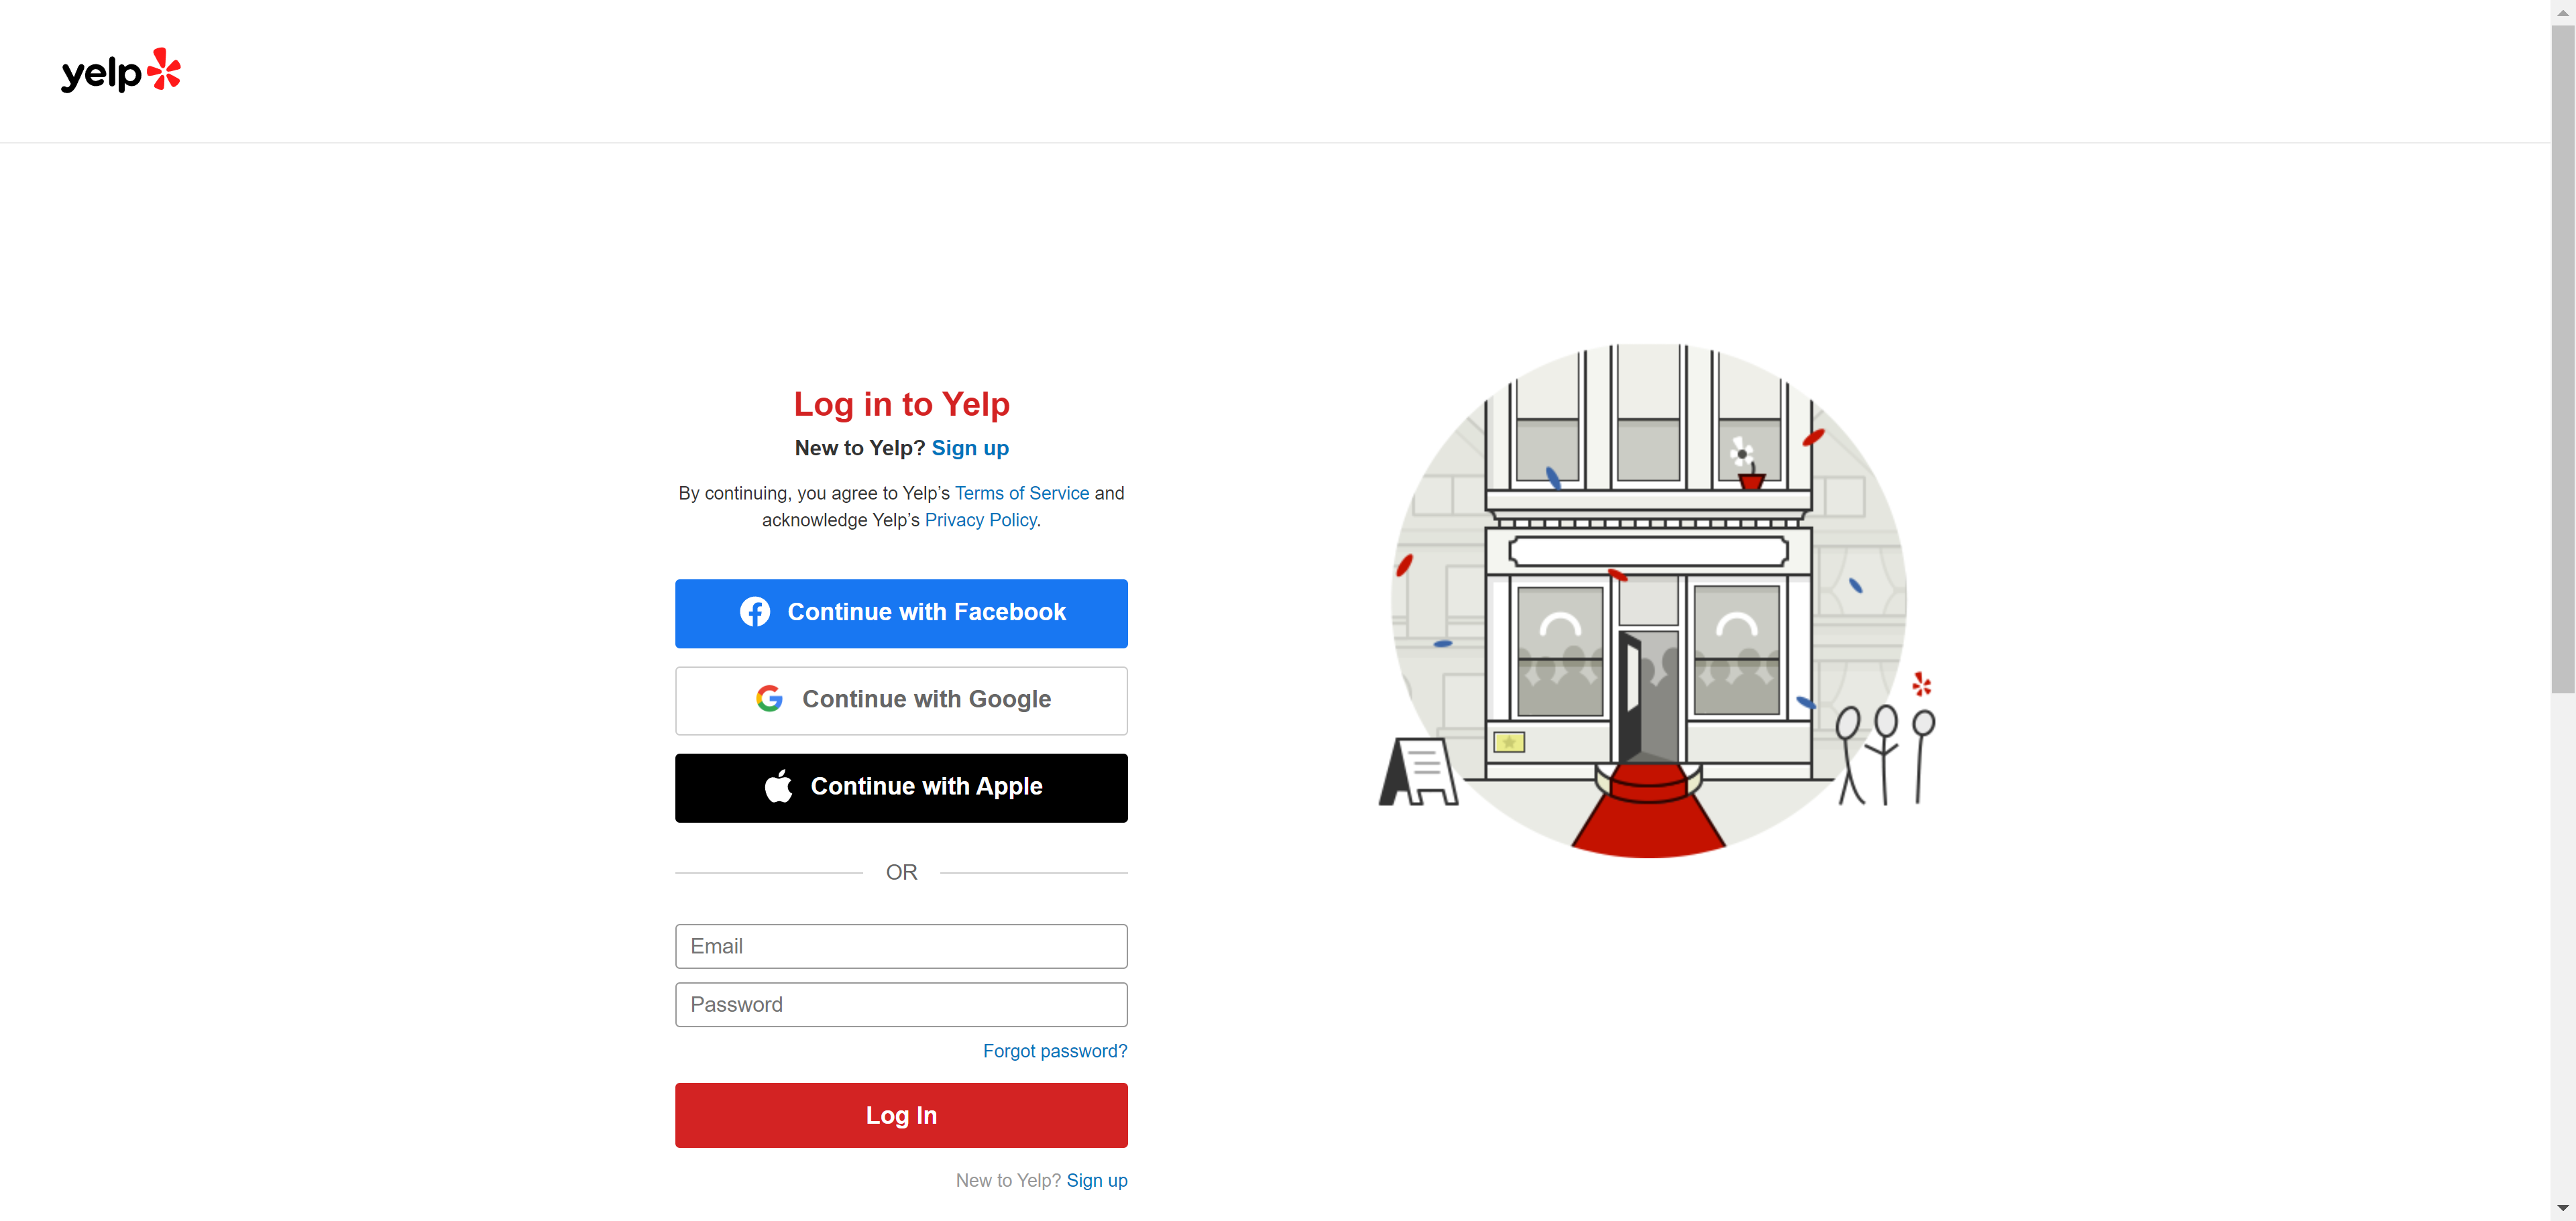login_button: (675, 1083, 1129, 1149)
login_form: (669, 917, 1134, 1155)
